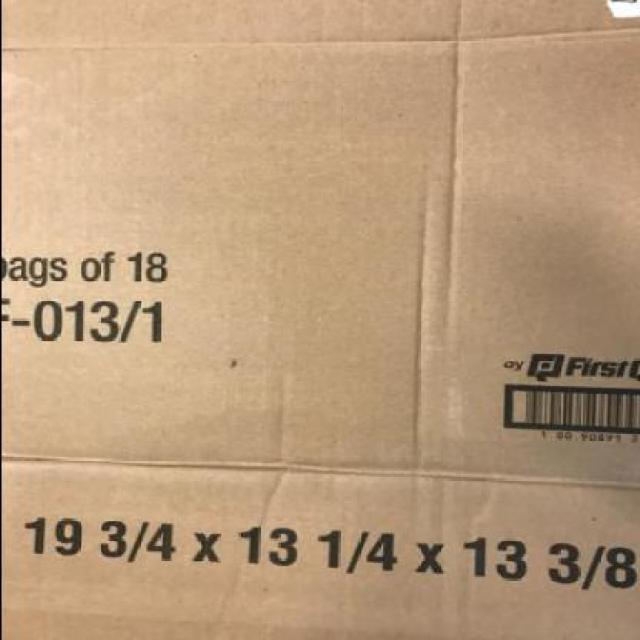CARDBOARD: (1, 0, 638, 640)
